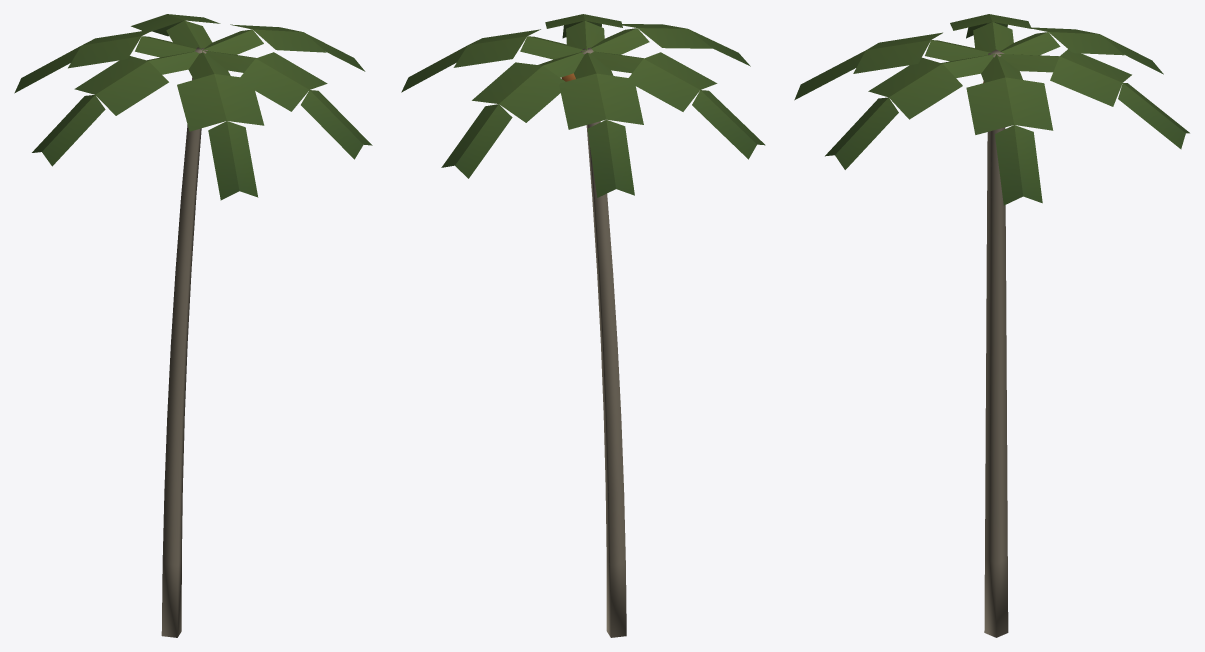
Rendered from cay_cau.lite.glb.
3 views of the same model, side by side, from view 1: azimuth 30°, elevation 25°; view 2: azimuth 150°, elevation 25°; view 3: azimuth 270°, elevation 25° (orthographic). The views are drawn at different scales.
Visible parts, largest first — view 1: la, than; view 2: la, than; view 3: la, than.
Boxes of the visible parts, x1,y1,x2,y2 form: la: (14, 14, 372, 200); than: (161, 47, 207, 637); la: (401, 14, 765, 197); than: (581, 47, 626, 637); la: (794, 14, 1189, 205); than: (984, 49, 1008, 637).
Size of the model in its own units: 6.67 by 11.08 by 6.65.
